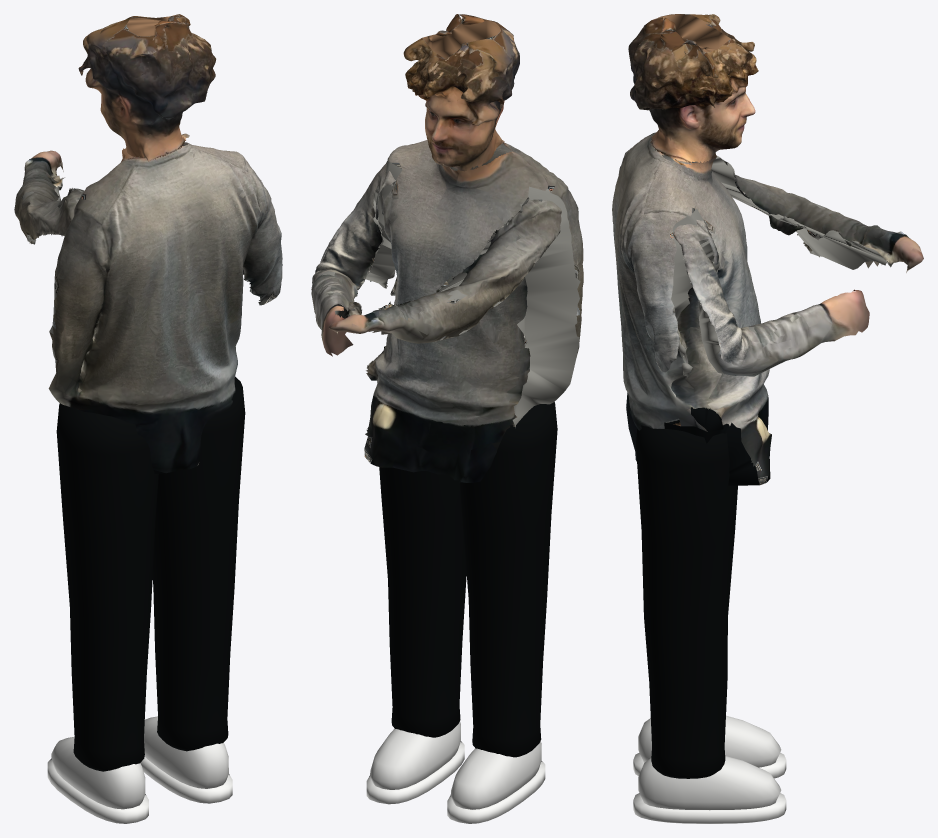
The model's file is antonino.glb.
3 renders of one model, left to right at view 1: azimuth 30°, elevation 25°; view 2: azimuth 150°, elevation 25°; view 3: azimuth 270°, elevation 25°, orthographic. The views are drawn at different scales.
Visible parts, largest first — view 1: Busto, GambaSX, GambaDX, Testa, Braccia; view 2: Busto, GambaSX, GambaDX, Braccia, Testa; view 3: GambaDX, Busto, Braccia, Testa, GambaSX.
Part boxes in pixels (x1,y1,x2,y2): Busto: (48,142,282,473); GambaSX: (47,403,158,823); GambaDX: (140,376,245,803); Testa: (78,14,216,161); Braccia: (14,150,244,274); Busto: (364,140,583,483); GambaSX: (447,402,557,823); GambaDX: (366,467,466,804); Braccia: (311,163,561,356); Testa: (403,14,519,171); GambaDX: (633,425,786,823); Busto: (612,132,771,485); Braccia: (660,151,923,376); Testa: (628,14,758,164); GambaSX: (633,715,786,778).
Bounding box in the file's own units: 0.5814 × 1.79 × 0.6535.
Materials: 8 (1 with a texture image).
